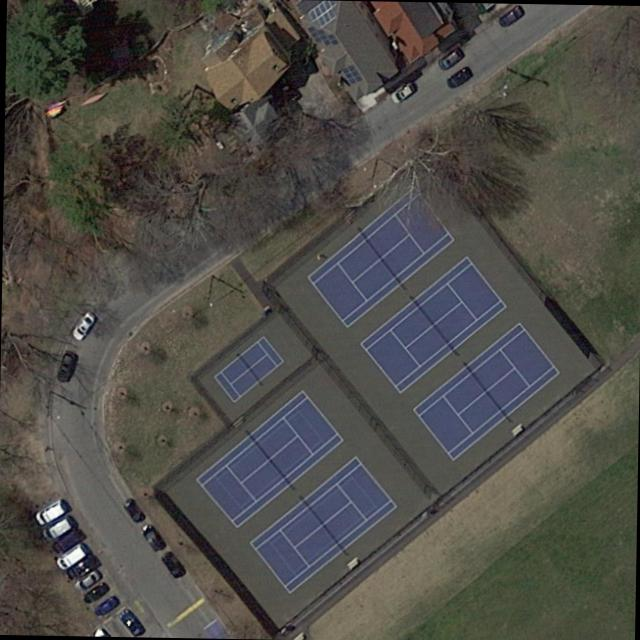small-vehicle: (53, 541, 90, 571), (47, 527, 85, 556), (65, 308, 97, 342), (39, 513, 74, 543), (30, 498, 67, 526), (64, 553, 99, 582), (88, 591, 121, 620), (115, 607, 146, 636), (71, 568, 103, 595), (80, 580, 111, 606), (160, 551, 187, 580), (138, 523, 165, 552), (54, 351, 77, 385), (444, 65, 474, 91), (436, 45, 464, 72), (386, 80, 415, 106), (495, 5, 523, 29), (121, 495, 145, 523)
